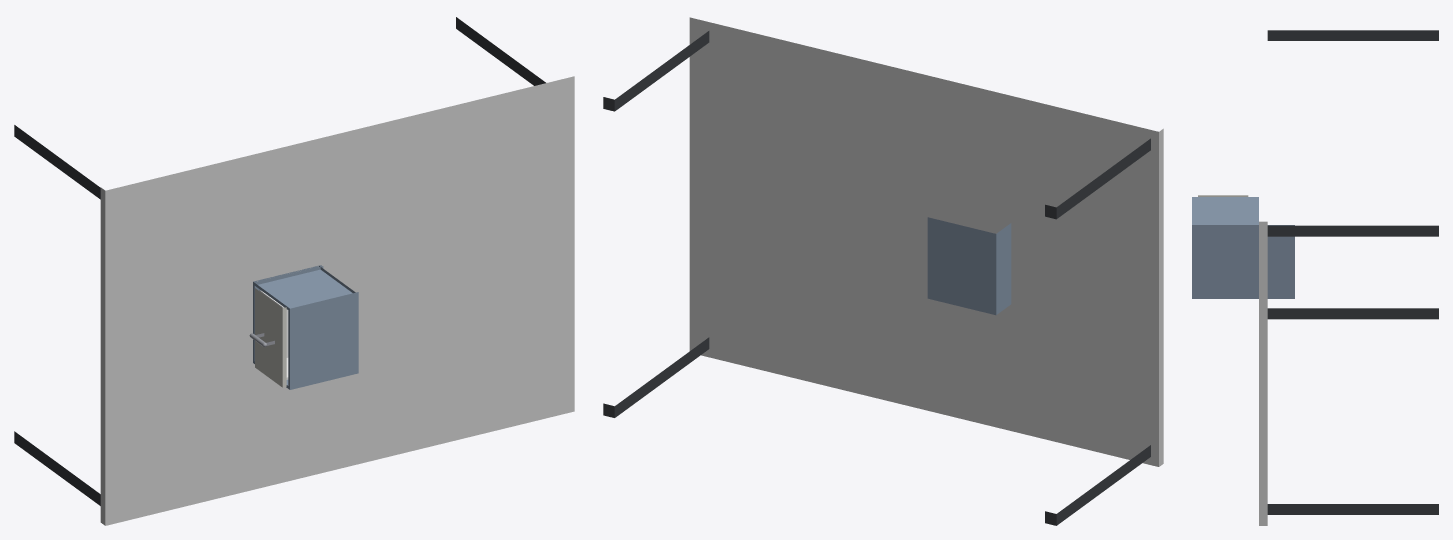
The picture shows the model from 3 angles, left to right: view 1: azimuth 30°, elevation 25°; view 2: azimuth 150°, elevation 25°; view 3: azimuth 270°, elevation 25°; orthographic projection. The views are drawn at different scales.
Visible parts, largest first — view 1: s0, s1, s2; view 2: s0, s1; view 3: s0, s1.
Part boxes in pixels (x1=…): s0: x1=14, y1=17, x2=574, y2=525; s1: x1=253, y1=265, x2=358, y2=389; s2: x1=249, y1=288, x2=288, y2=387; s0: x1=603, y1=17, x2=1163, y2=525; s1: x1=927, y1=217, x2=1011, y2=315; s0: x1=1259, y1=30, x2=1438, y2=525; s1: x1=1192, y1=197, x2=1294, y2=298.
Bounding box in the file's own units: 2.05 × 1.4 × 1.03.
